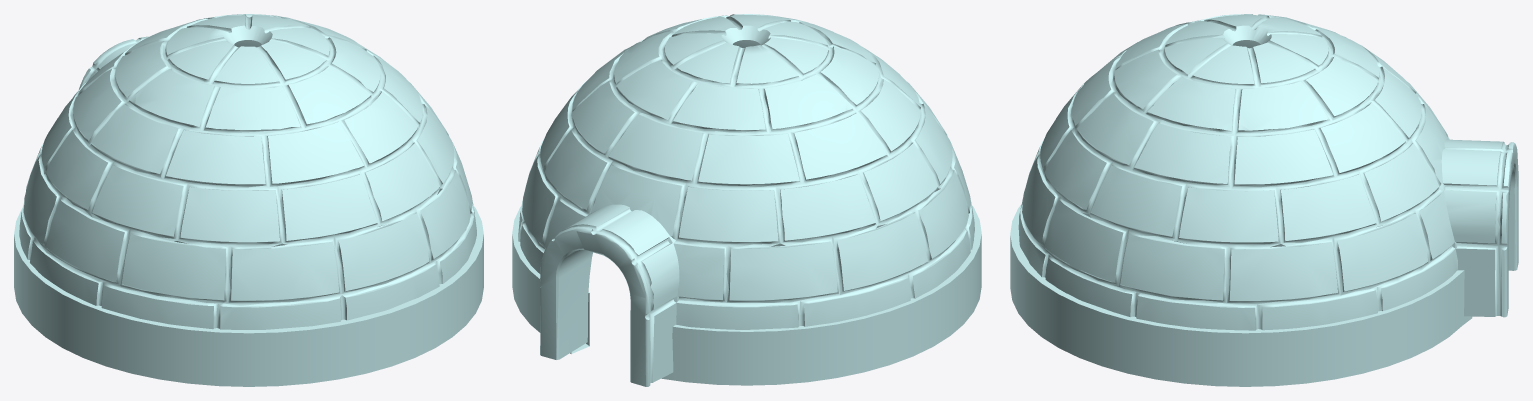
File: igloo.fbx
3 renders of one model, left to right at view 1: azimuth 30°, elevation 25°; view 2: azimuth 150°, elevation 25°; view 3: azimuth 270°, elevation 25°, orthographic.
Parts seen in each view (by area): view 1: igloo; view 2: igloo; view 3: igloo.
Boxes of the visible parts, box(x1,y1,x2,y2) form: igloo: box(14, 14, 483, 386); igloo: box(512, 14, 981, 386); igloo: box(1010, 14, 1518, 386).
Bounding box in the file's own units: 1730 × 1020 × 1871.
